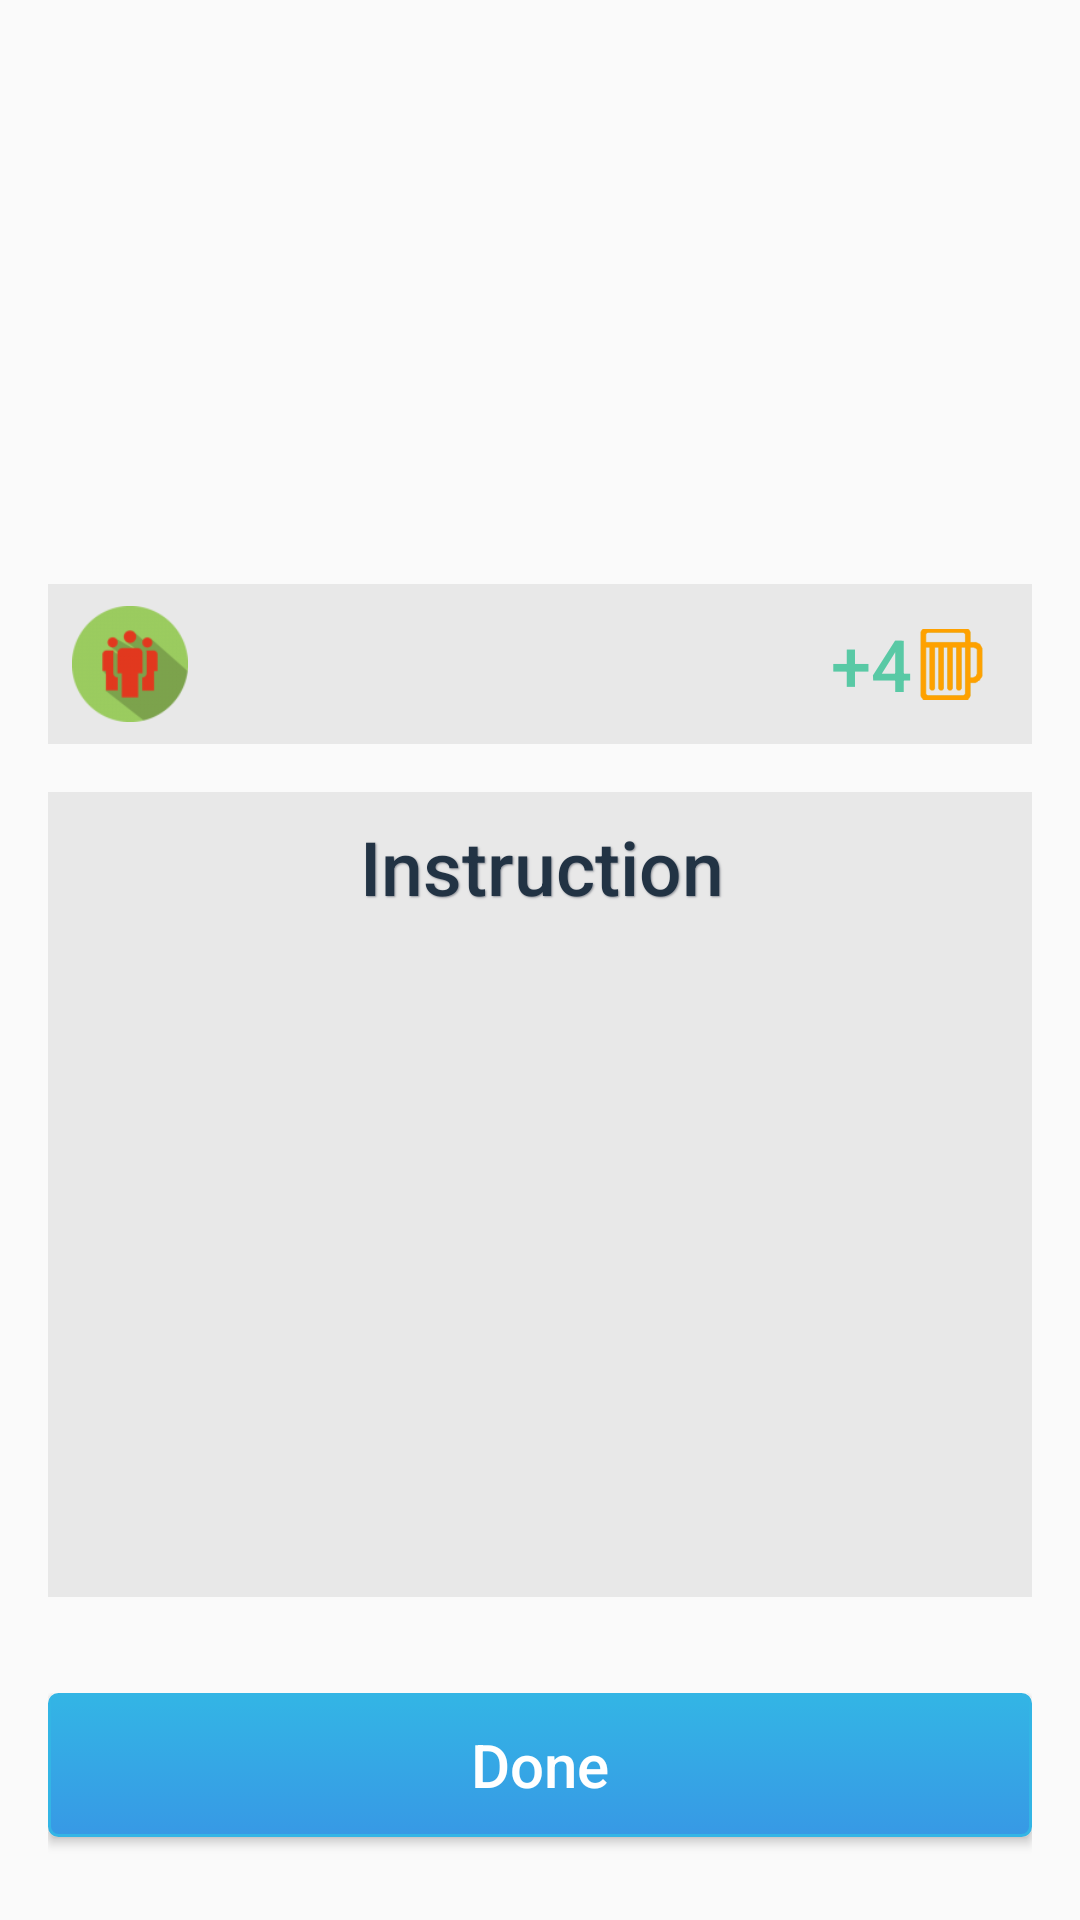

Icon bounding boxes for this 1080px x 1920px phone screenshot, format (x1, y1, x2, y2):
beer: (920, 629, 983, 700)
todos: (72, 606, 188, 722)
